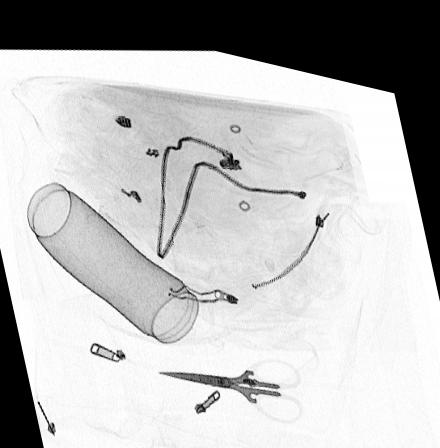Scissors: (151, 344, 307, 412)
